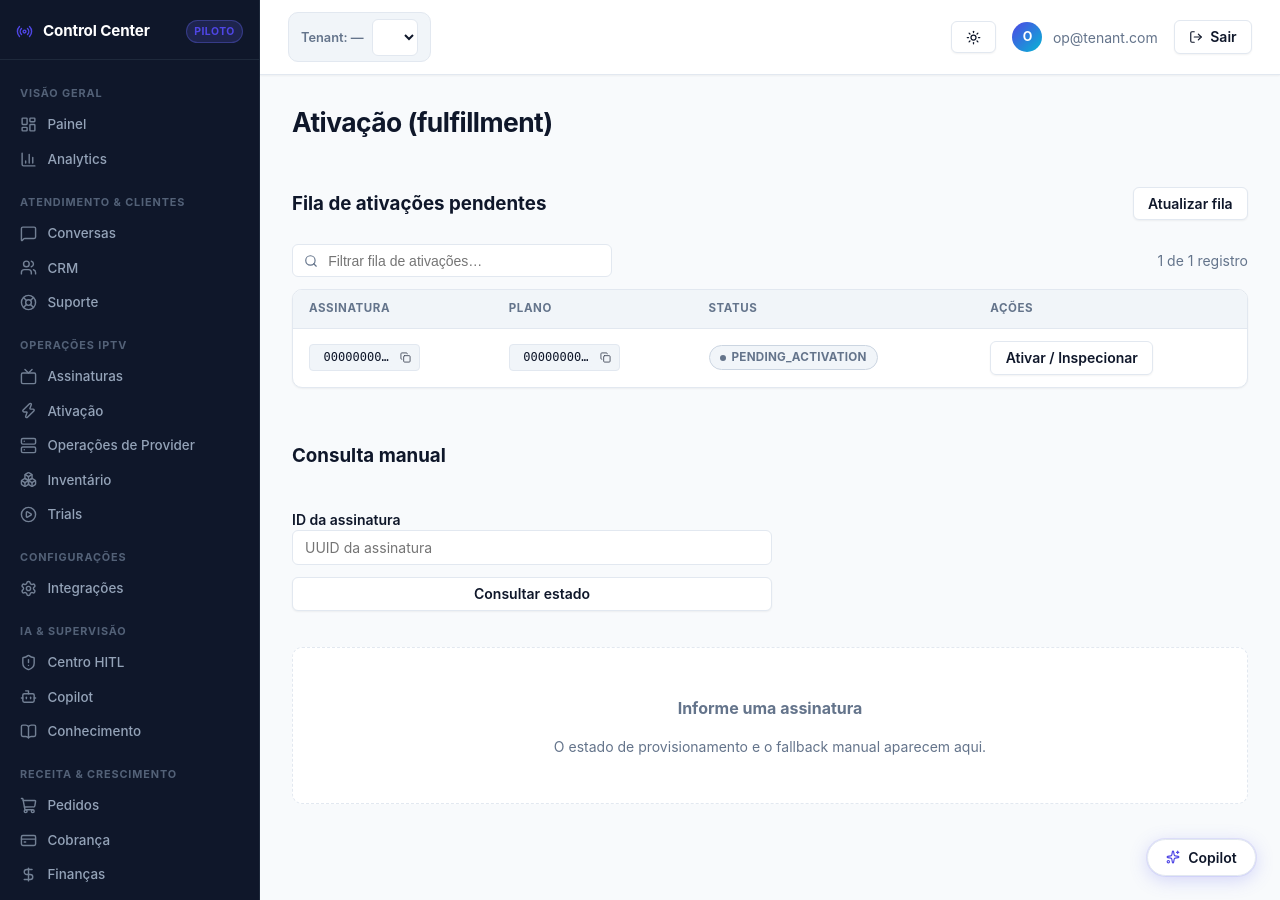
Scenario: FulfillmentPage › renderiza fila de ativações pendentes e solicita provisionamento em 1 clique
The width and height of the screenshot is (1280, 900).
Check: the heading "Ativação (fulfillment)" is shown, box [292,106,553,138]
Check: the heading "Fila de ativações pendentes" is shown, box [292,190,546,218]
// Clica no botão Ativar / Inspecionar na tabela da fila
Click the button "Ativar / Inspecionar". click: (1072, 358)
box: [990,341,1153,375]
(page scrolled)
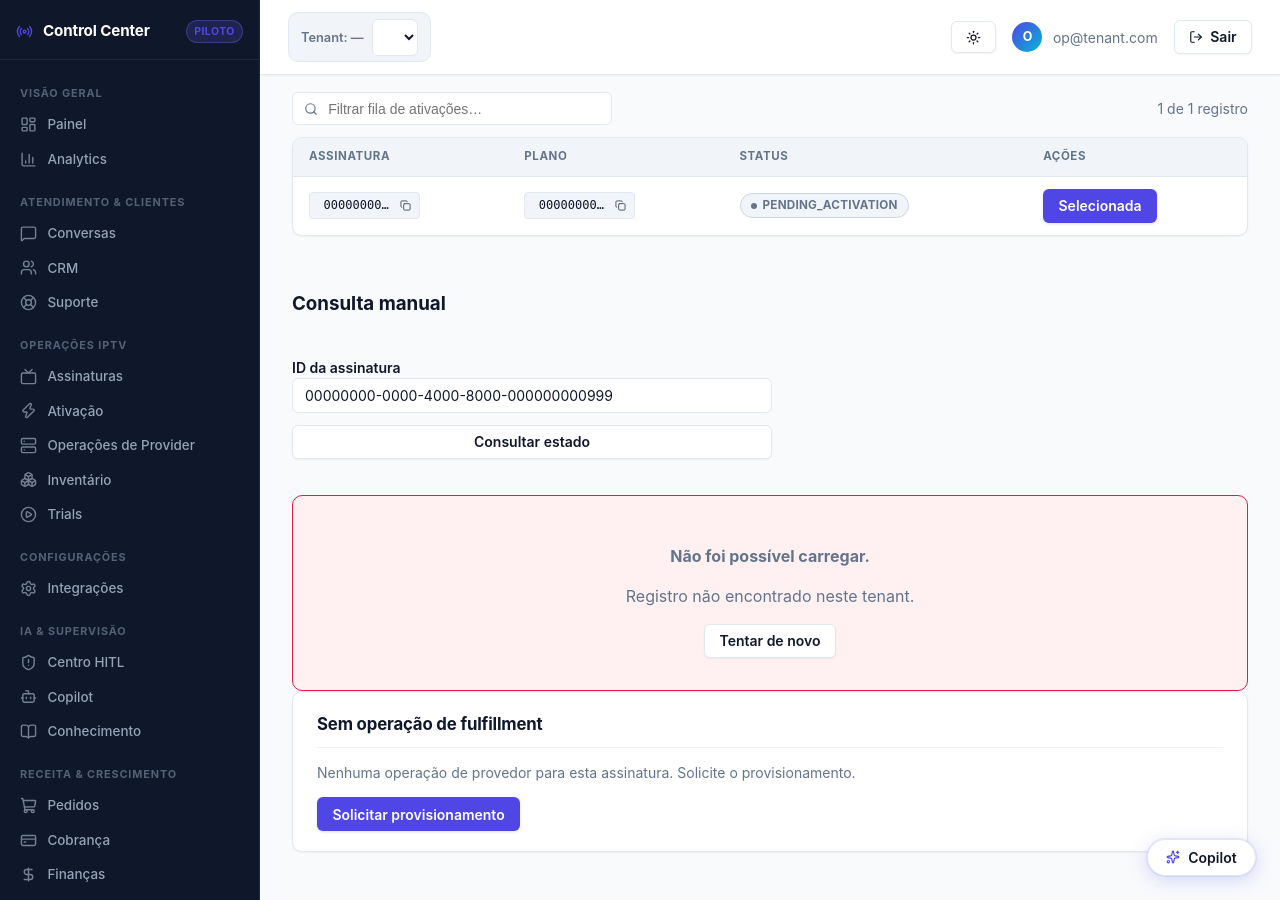
Check: the heading "Sem operação de fulfillment" is shown, box [317,712,1223,748]
Check: the button "Solicitar provisionamento" is shown
// Dispara a solicitação de provisionamento
Click the button "Solicitar provisionamento". click: (419, 814)
box: [317,798,520,831]
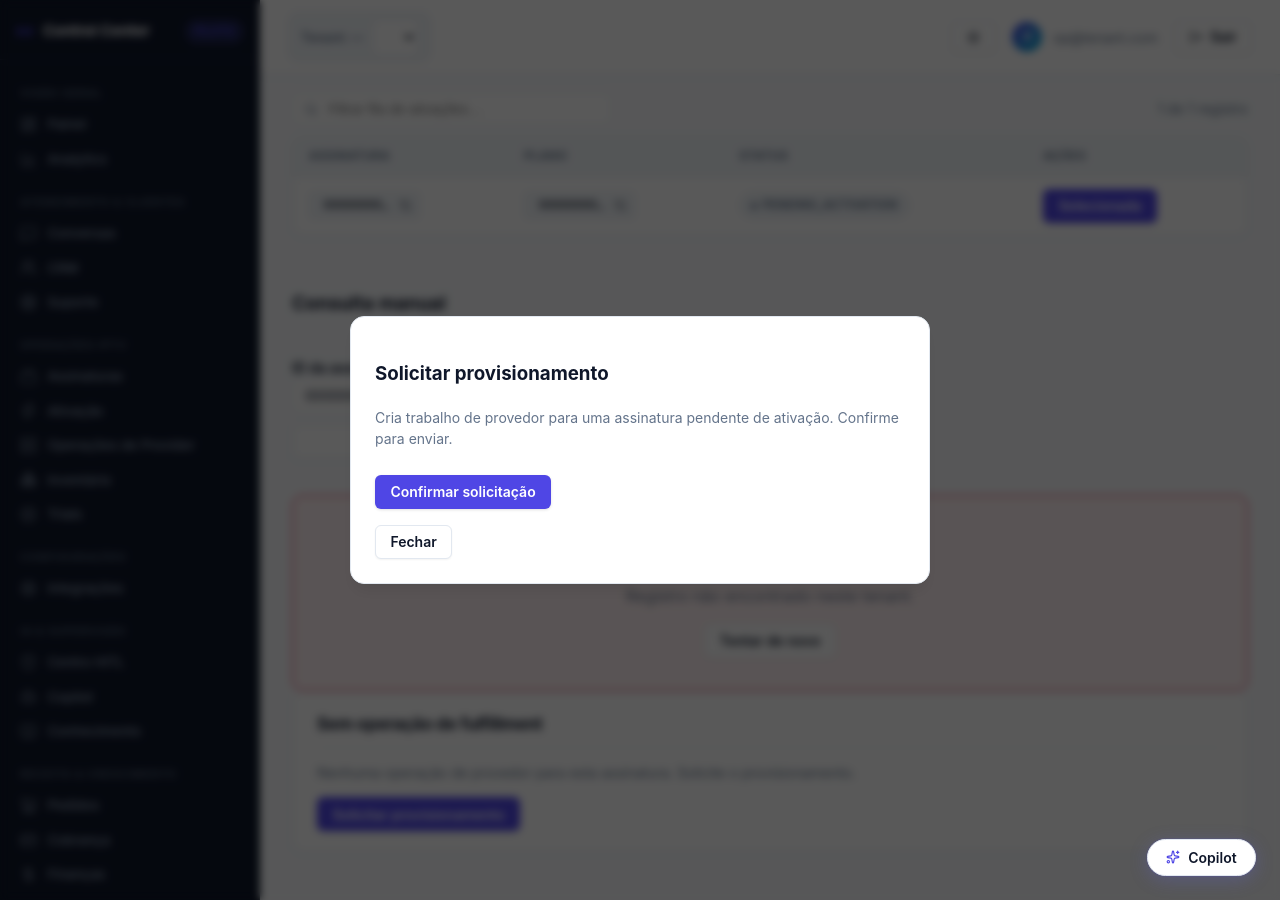
Check: the button "Confirmar solicitação" is shown
// Confirma no modal
Click the button "Confirmar solicitação". click: (463, 492)
box: [375,475,551,509]
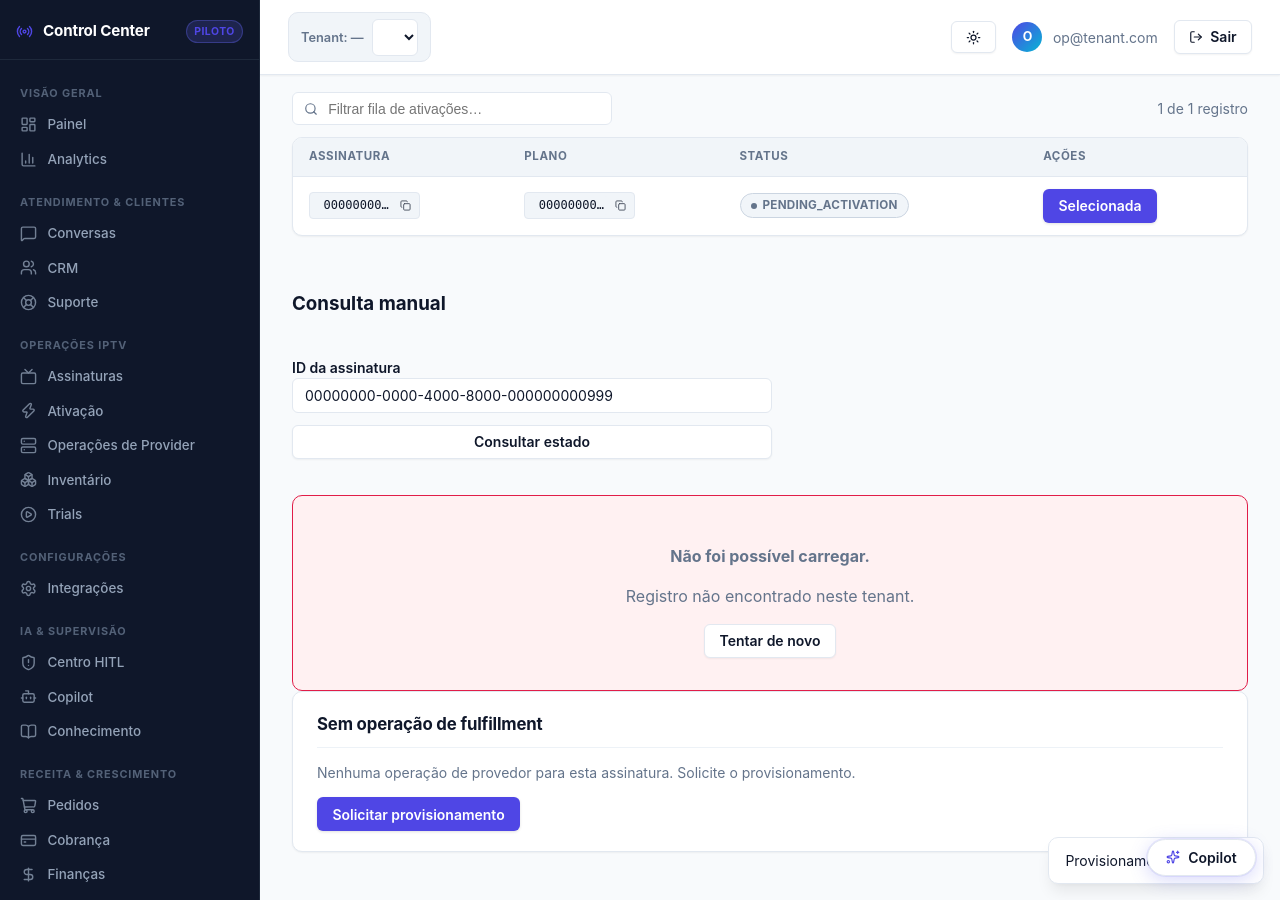
Check: the text "Provisionamento solicitado." is shown, box [1048,837,1264,884]
